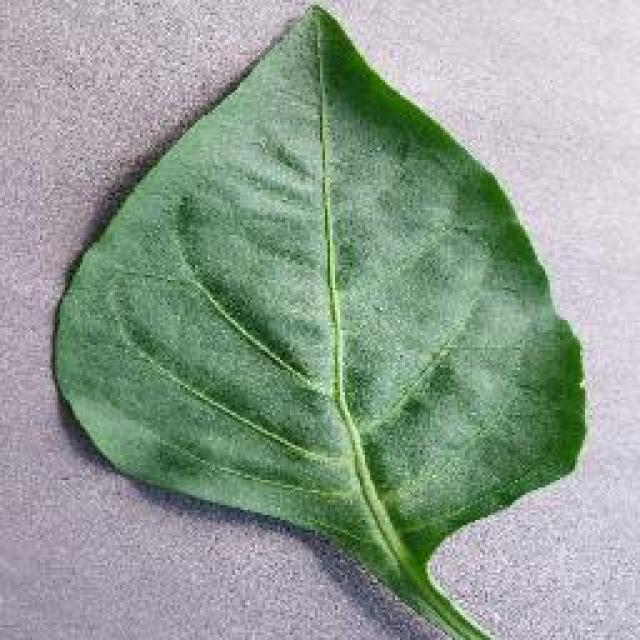Chilli_Healthy: (48, 2, 590, 638)
